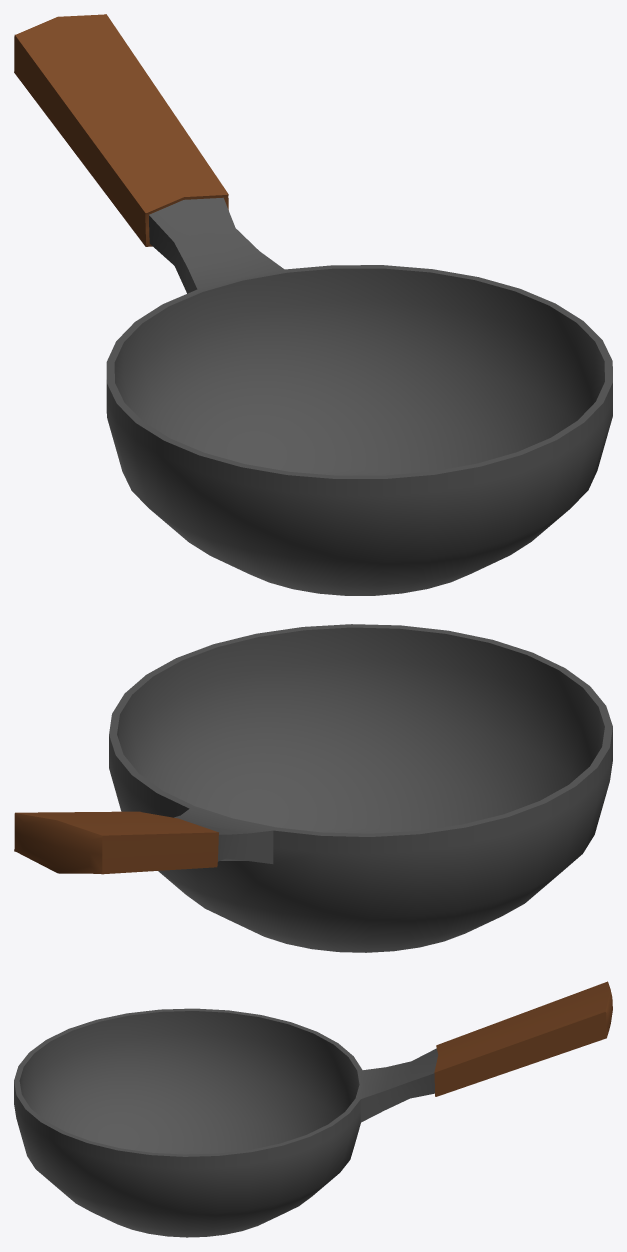
Rendered from Wok.fbx.
The picture shows the model from 3 angles, top to bottom: view 1: azimuth 30°, elevation 25°; view 2: azimuth 150°, elevation 25°; view 3: azimuth 270°, elevation 25°; orthographic projection. The views are drawn at different scales.
Visible parts, largest first — view 1: Cylinder; view 2: Cylinder; view 3: Cylinder.
Part boxes in pixels (x1,y1,x2,y2): Cylinder: (14,14,612,595); Cylinder: (14,624,612,952); Cylinder: (14,981,612,1237).
Size of the model in its own units: 188 by 122 by 321.
